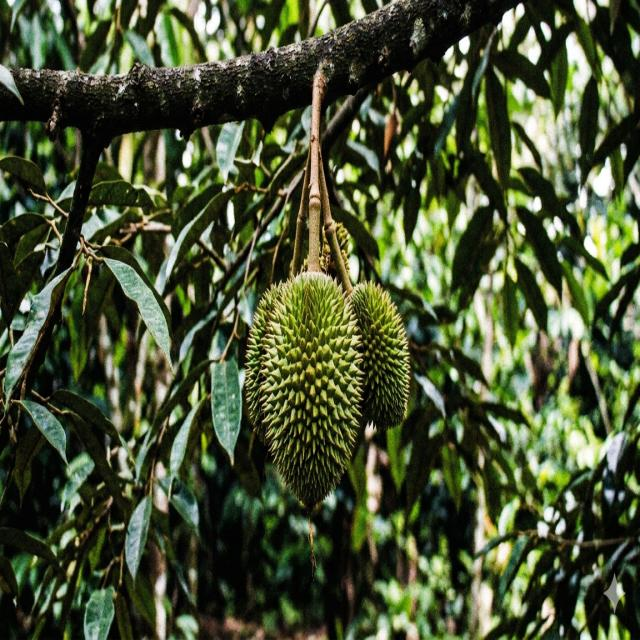immature: (253, 267, 365, 507), (348, 278, 412, 433), (243, 280, 285, 442), (299, 220, 352, 282)
